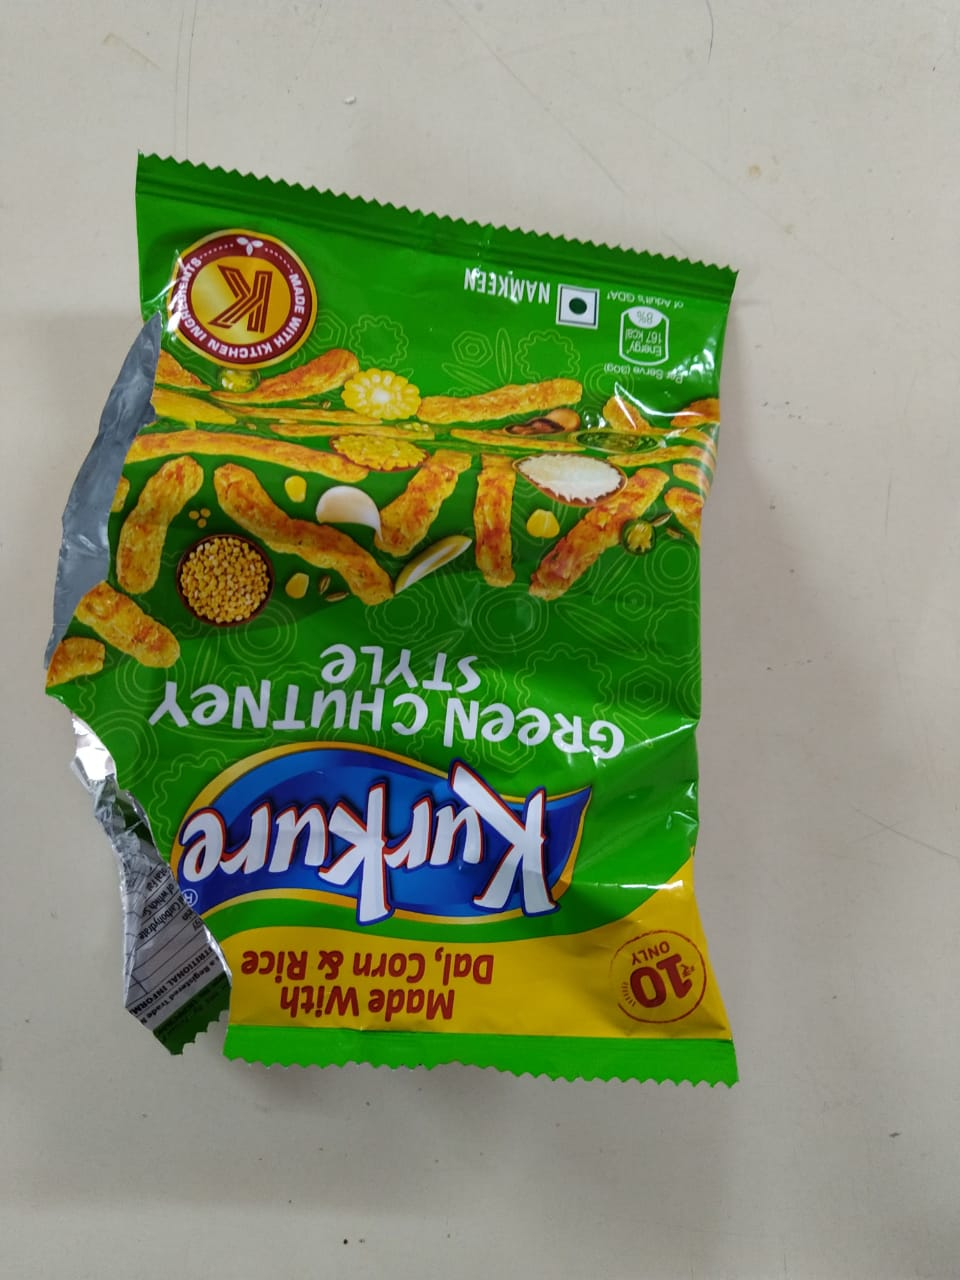kurkure: (117, 721, 584, 945), (282, 759, 594, 931), (166, 751, 419, 910)
plastic: (49, 183, 766, 1055)
wrapper: (66, 158, 741, 1089)
